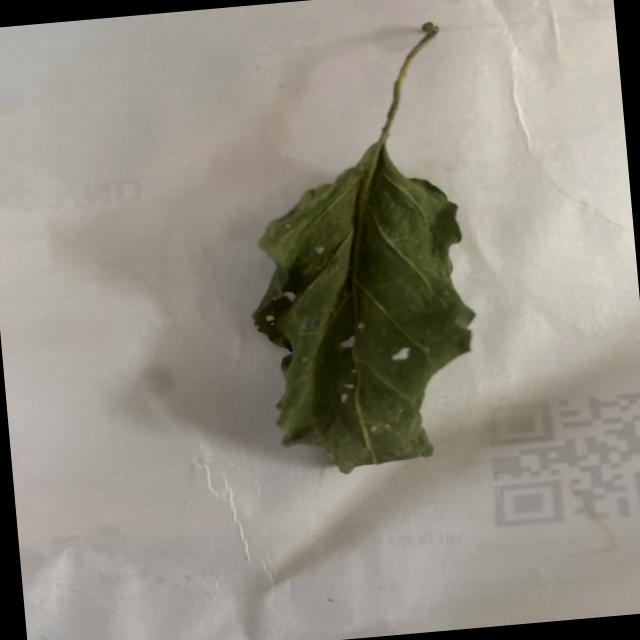Leaf: (236, 136, 486, 482)
